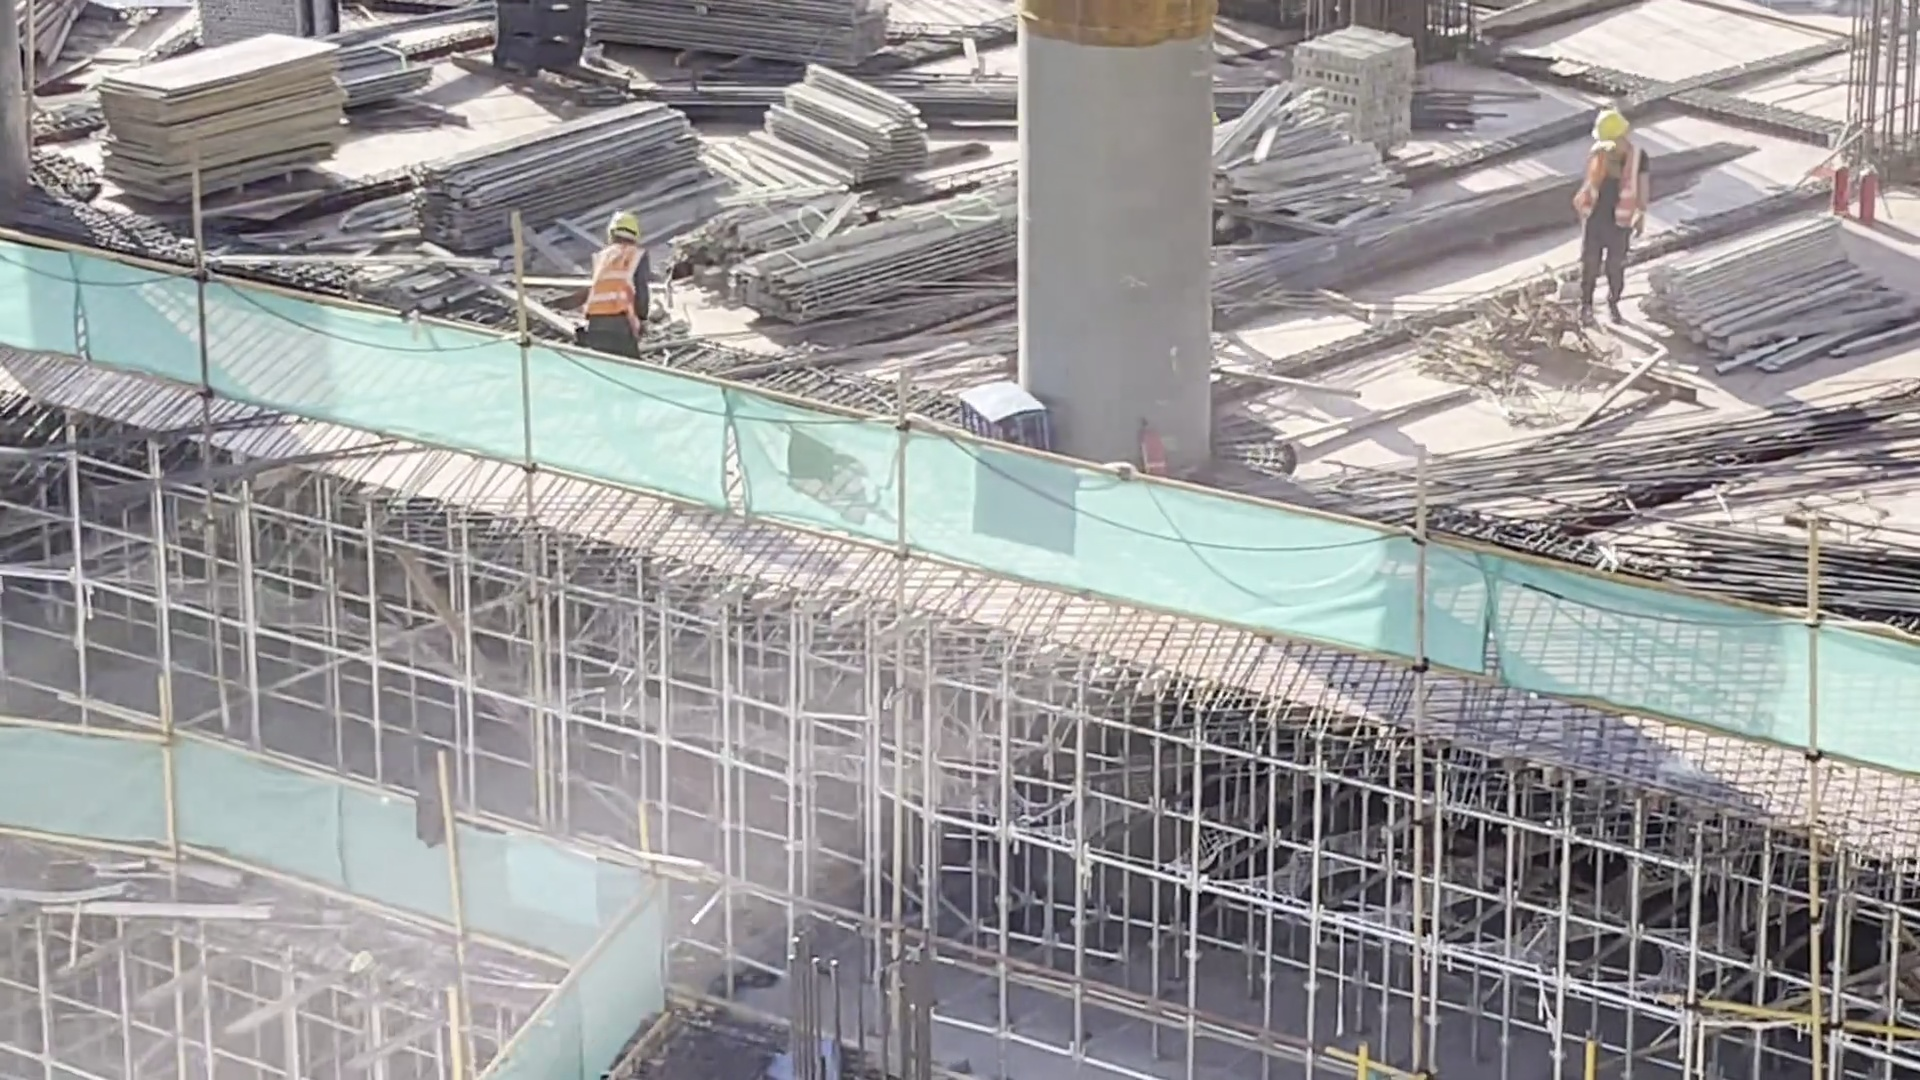helmet: (604, 209, 641, 244), (1598, 105, 1626, 141)
person: (1571, 87, 1651, 302), (569, 195, 647, 358)
vest: (1572, 133, 1648, 235), (587, 242, 635, 316)
